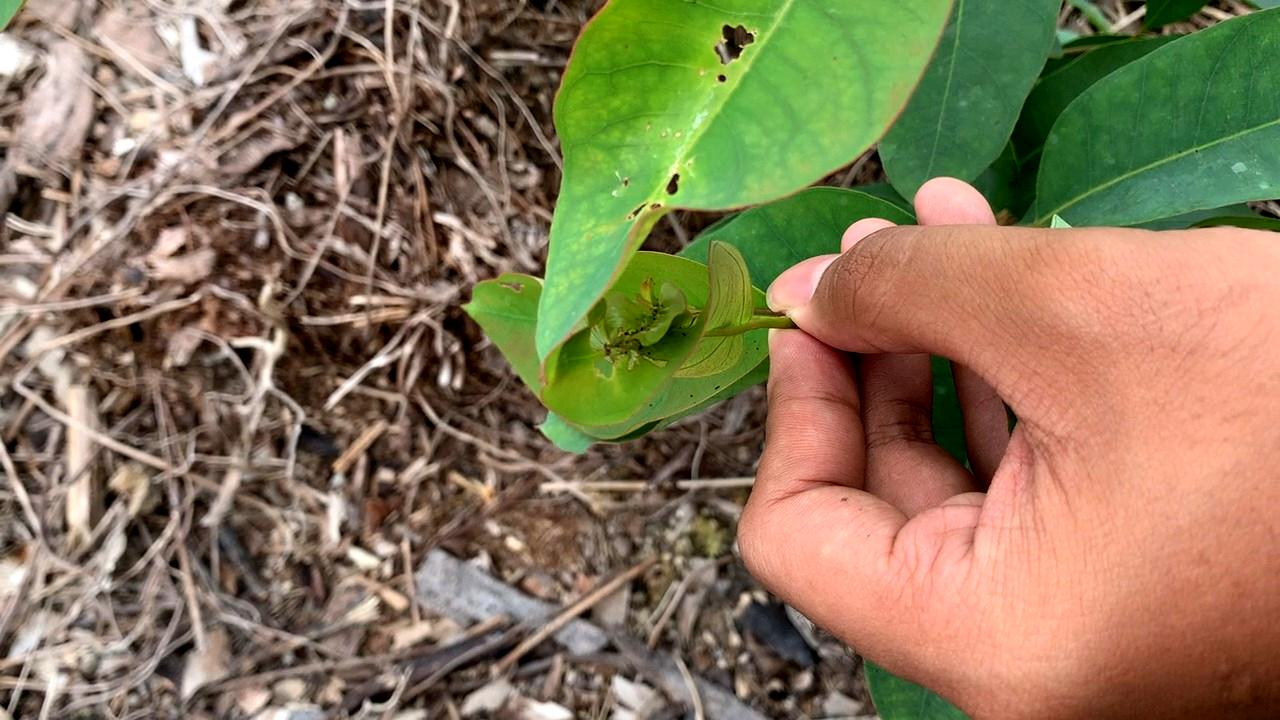Leaf Roller - Leaf: (559, 279, 744, 393)
